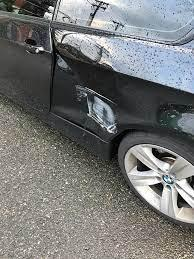quaterpanel-dent: (52, 26, 193, 157)
